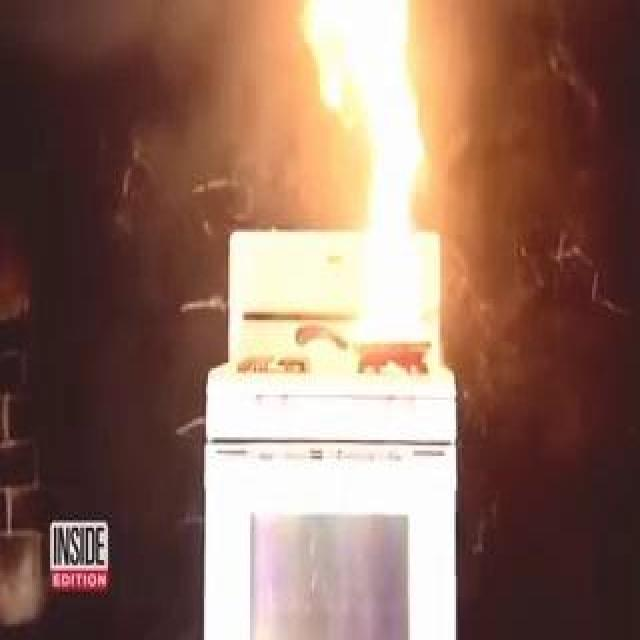Fire: (316, 3, 452, 357)
